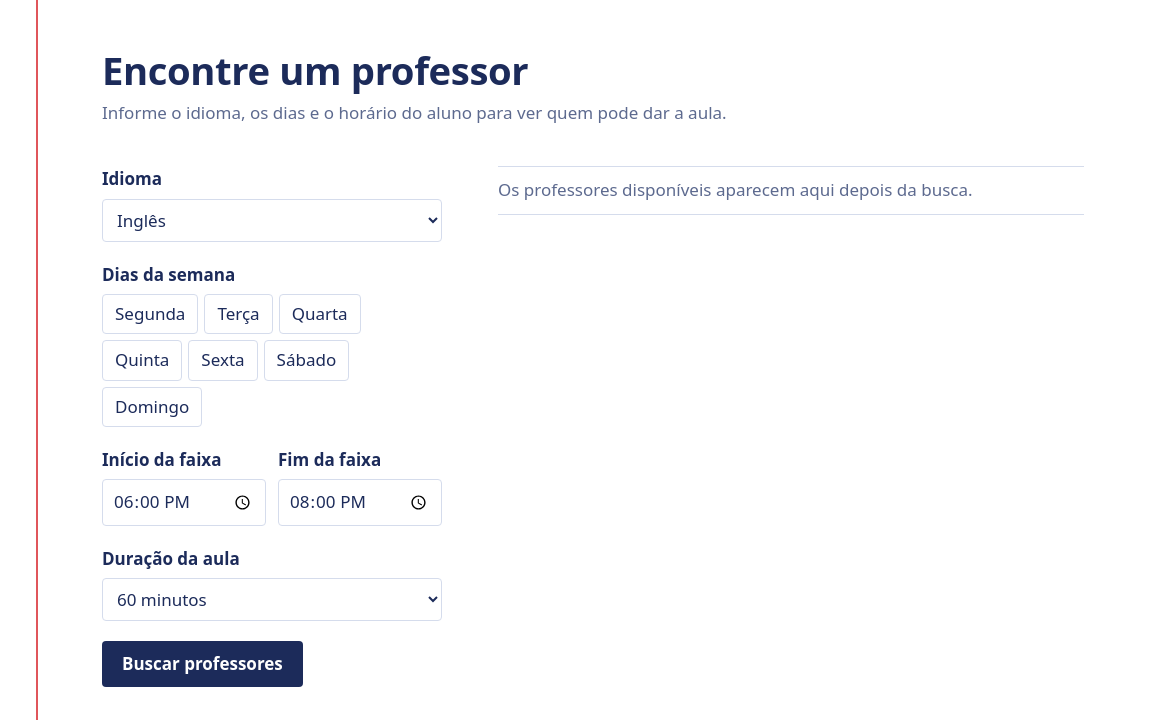
Test: Tela de busca de professores › avisa quando nenhum professor está disponível
Select "Espanhol" in the dropdown labelled "Idioma": (272, 220) [102,199,442,242]
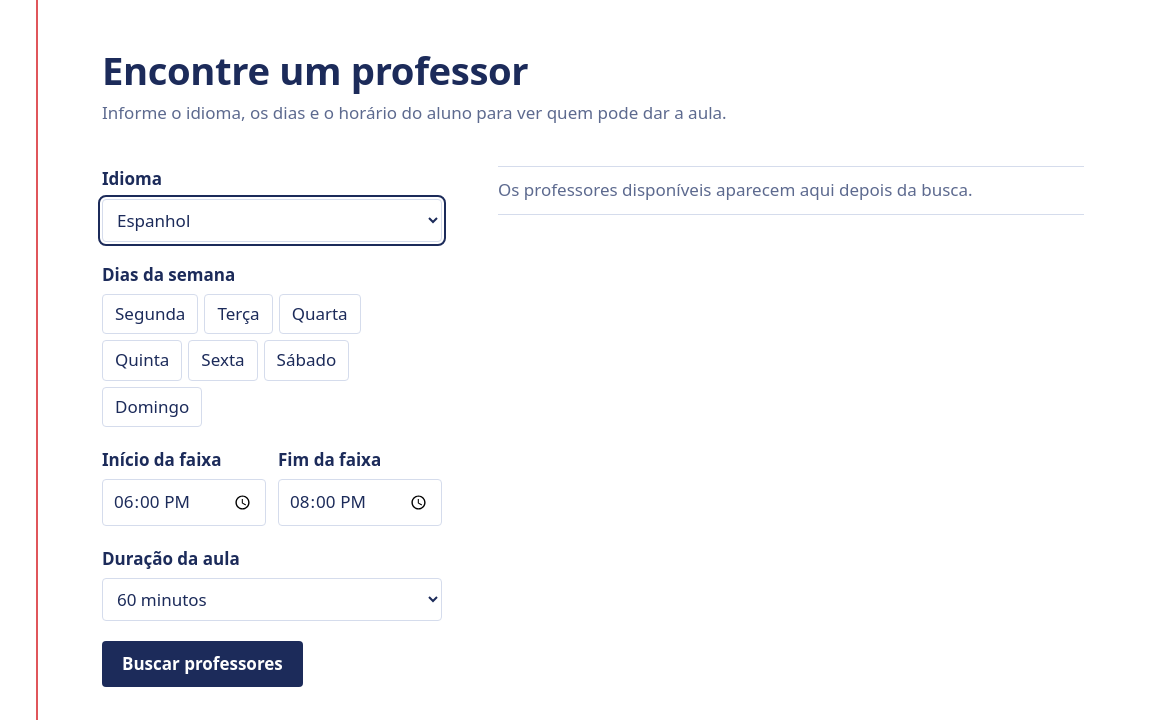
Click the checkbox labelled "Segunda": (150, 314) [102,294,198,334]
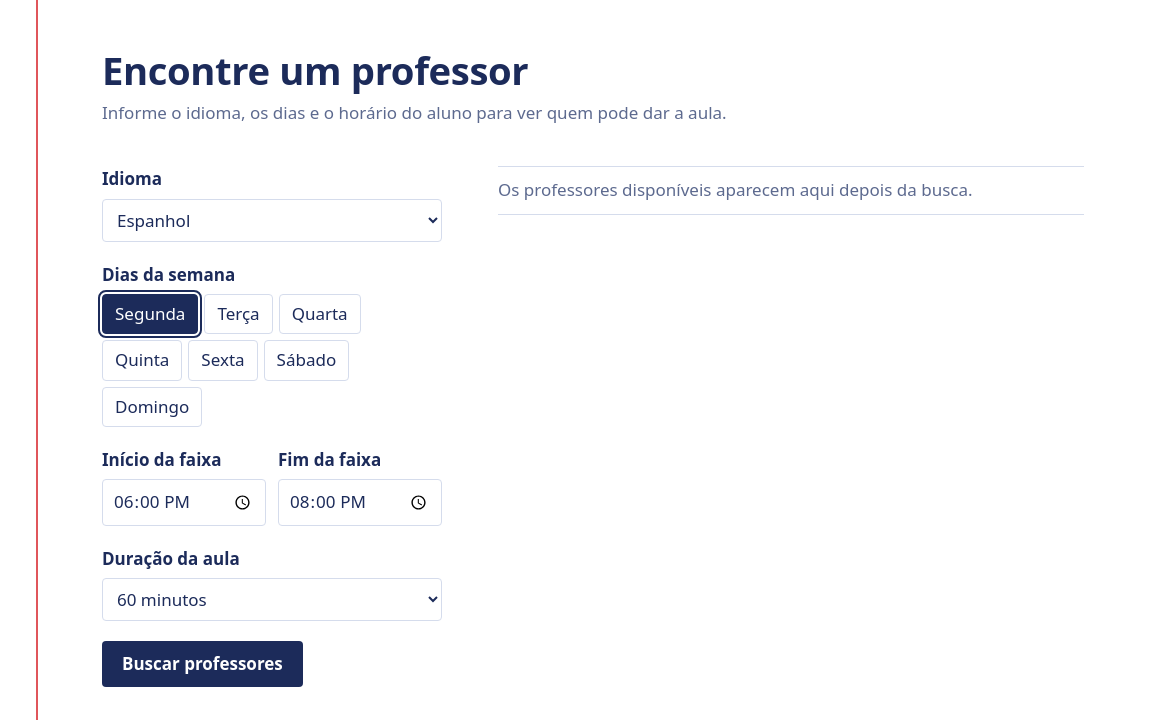
Click the button "Buscar professores": (202, 664) [102,641,303,687]
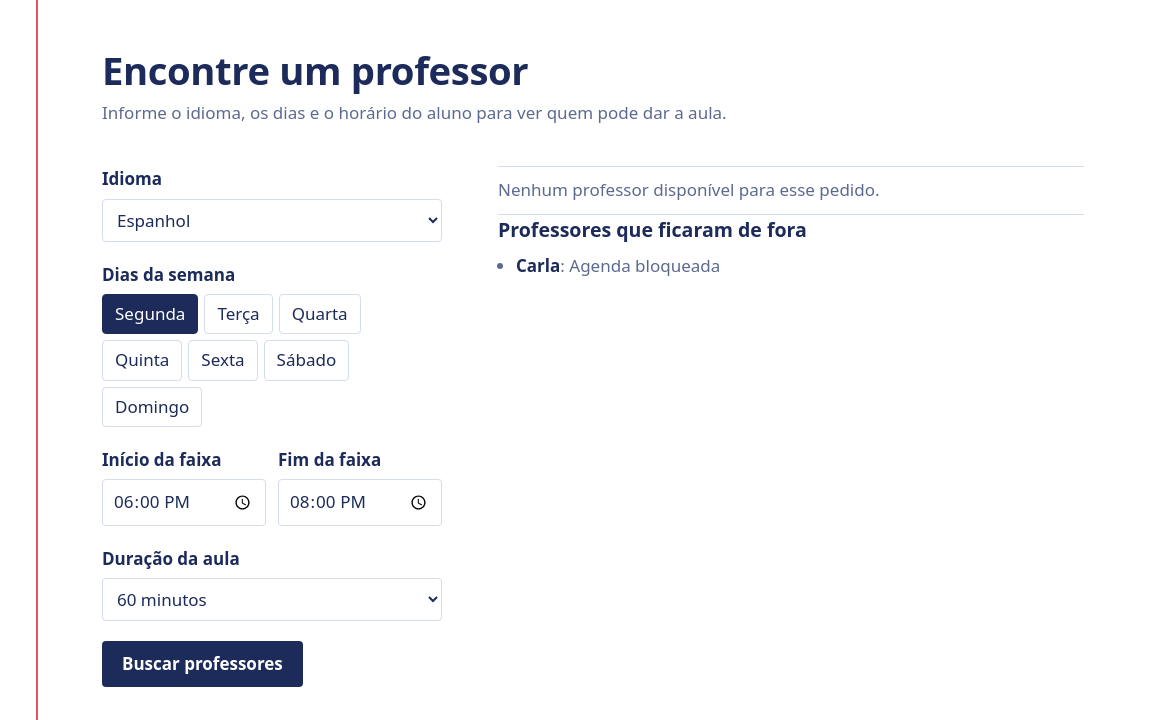
Now the text "Nenhum professor disponível para esse pedido." is shown, box [498,166,1084,215]
Now the list item "Carla" reads "Carla: Agenda bloqueada", box [516,254,720,277]
